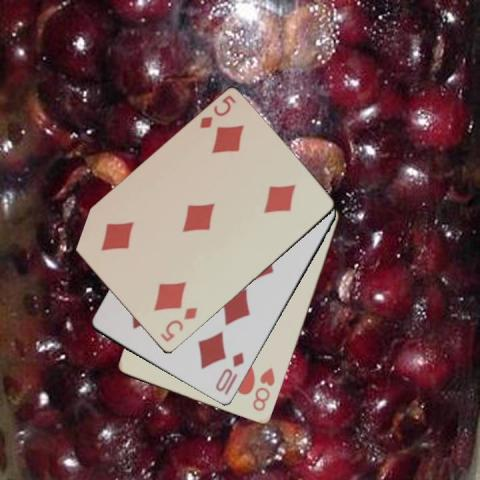10d: (212, 349, 246, 394)
5d: (158, 304, 200, 344), (196, 92, 237, 131)
8h: (249, 365, 277, 413)
